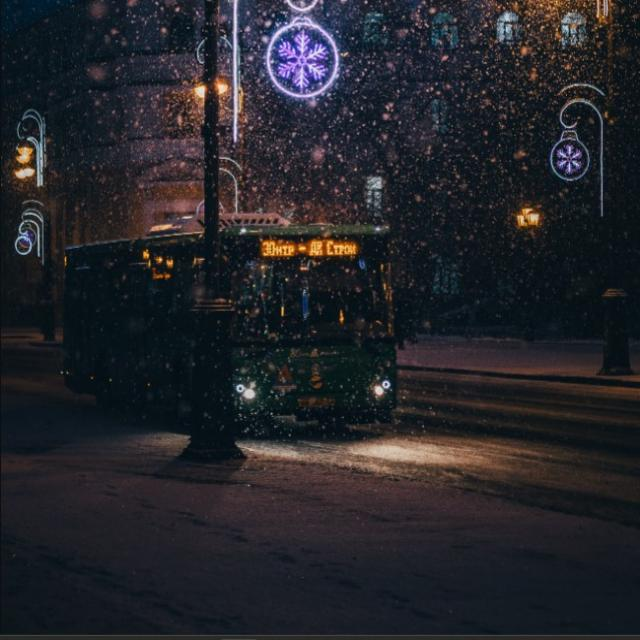bus: (57, 220, 400, 428)
